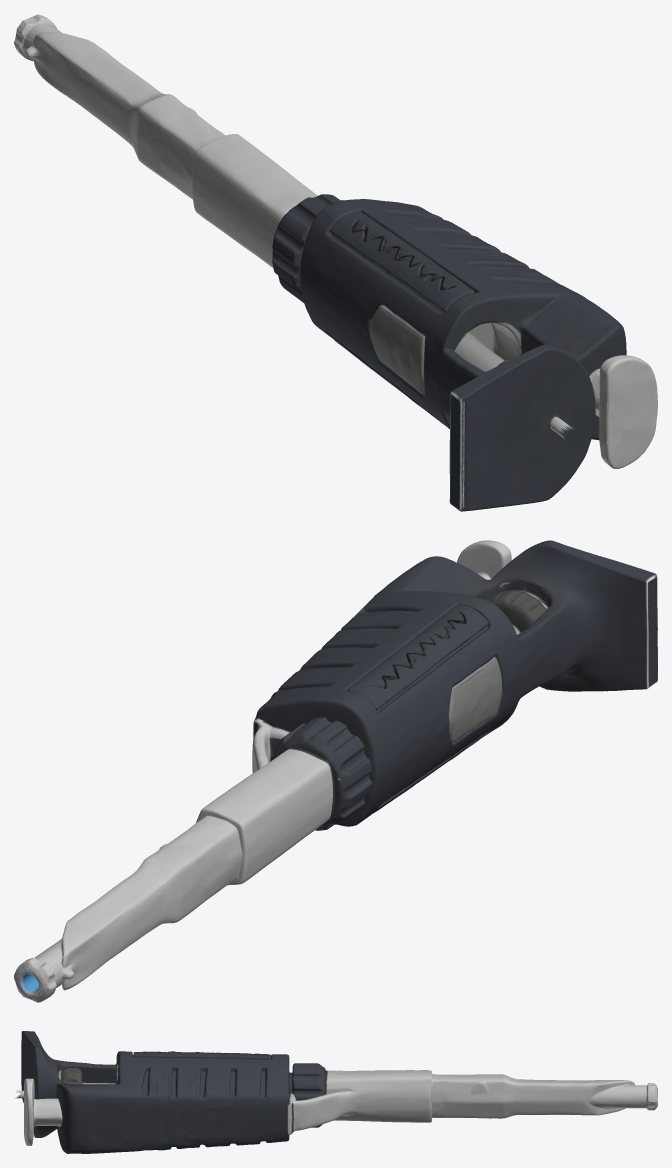
The model's file is body_visual.glb.
The picture shows the model from 3 angles, top to bottom: view 1: azimuth 30°, elevation 25°; view 2: azimuth 150°, elevation 25°; view 3: azimuth 270°, elevation 25°; orthographic projection. The views are drawn at different scales.
Parts seen in each view (by area): view 1: world; view 2: world; view 3: world.
Boxes of the visible parts, bbox=[...] form: world: bbox=[14, 14, 657, 511]; world: bbox=[14, 540, 657, 1002]; world: bbox=[15, 1031, 657, 1153].
Size of the model in its own units: 0.0567 by 0.0387 by 0.2525.
1 material, 1 textured.
